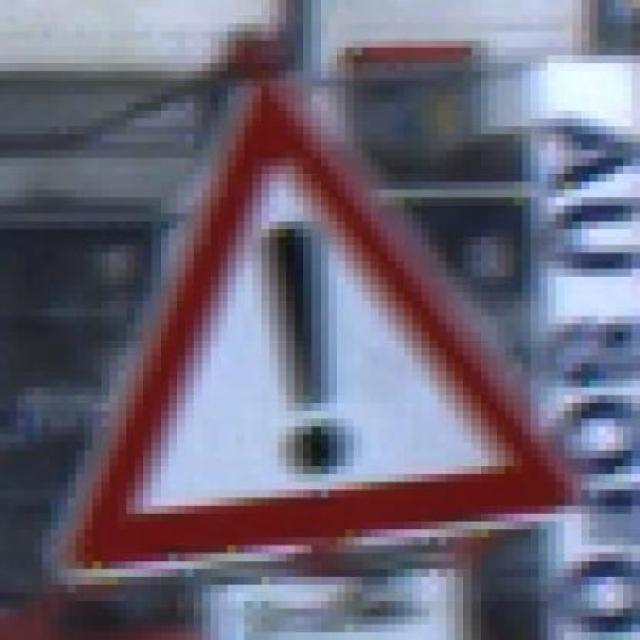Attention Please-: (41, 71, 582, 577)
